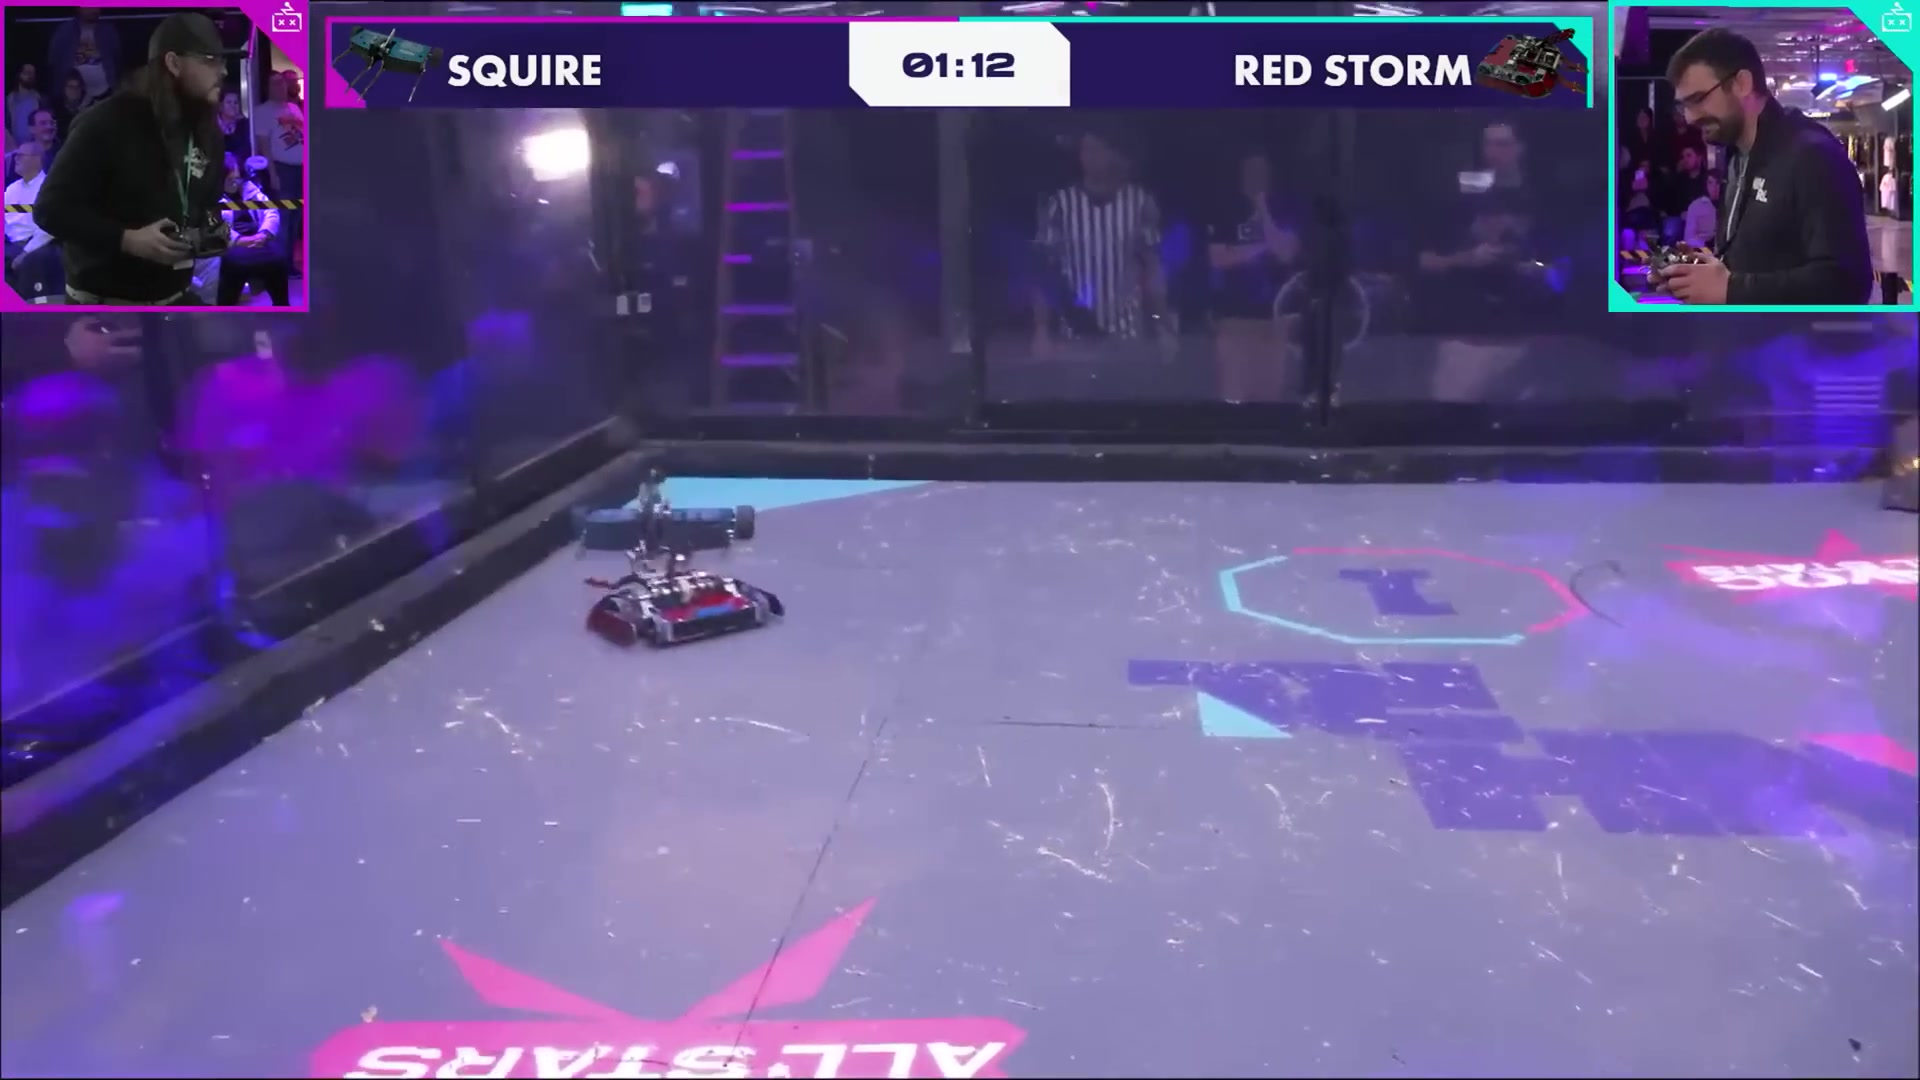combatbot: (583, 543, 790, 659), (570, 465, 758, 554)
housebot: (1879, 419, 1920, 510)
